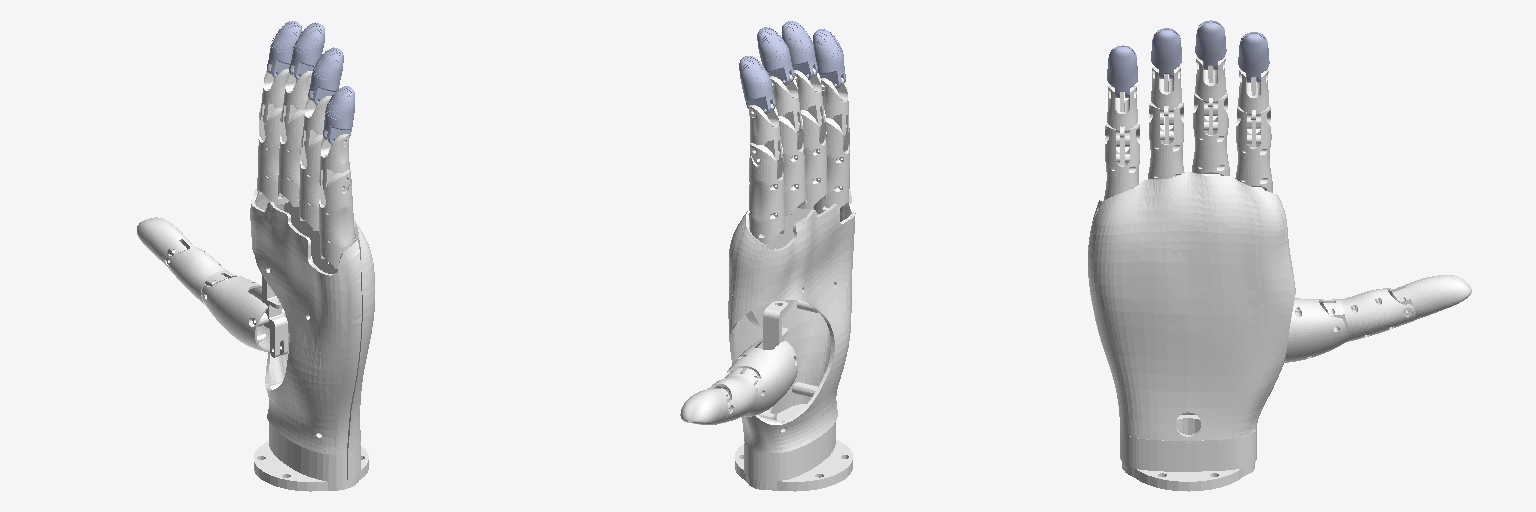
--- Facts derived from the render (not from the file) ---
Views: 3 orthographic renders of the robot side by side, from view 1: azimuth 30°, elevation 25°; view 2: azimuth 150°, elevation 25°; view 3: azimuth 270°, elevation 25°.
Model left with 25 links and 24 joints (22 revolute, 2 fixed), rooted at base_link, posed all joints at 0.
Links seen in each view (by area): view 1: palm, wrist, TH1, LF0, TH2, MF0, FF0, RF0, TH3, LF2, RF2, MF2 (+6 smaller); view 2: palm, wrist, FF0, TH1, LF0, RF0, MF0, TH2, TH3, FF2, MF2, LF2 (+6 smaller); view 3: wrist, TH2, TH1, MF0, FF0, RF0, TH3, LF0, LF2, LF1, FF2, FF1 (+4 smaller).
Boxes of the visible links, bbox=[...] form: palm: bbox=[250, 188, 361, 454]; wrist: bbox=[254, 196, 374, 491]; TH1: bbox=[201, 276, 289, 351]; LF0: bbox=[319, 169, 354, 268]; TH2: bbox=[164, 247, 236, 306]; MF0: bbox=[278, 109, 304, 206]; FF0: bbox=[257, 108, 288, 204]; RF0: bbox=[299, 134, 322, 230]; TH3: bbox=[137, 217, 193, 263]; LF2: bbox=[323, 86, 354, 144]; RF2: bbox=[308, 47, 343, 104]; MF2: bbox=[289, 22, 324, 79]; palm: bbox=[730, 189, 855, 452]; wrist: bbox=[728, 200, 852, 491]; FF0: bbox=[748, 143, 784, 243]; TH1: bbox=[723, 339, 797, 416]; LF0: bbox=[814, 118, 849, 213]; RF0: bbox=[797, 110, 827, 208]; MF0: bbox=[778, 116, 805, 215]; TH2: bbox=[708, 368, 758, 424]; TH3: bbox=[680, 388, 729, 424]; FF2: bbox=[739, 56, 775, 114]; MF2: bbox=[757, 27, 794, 85]; LF2: bbox=[813, 29, 845, 88]; wrist: bbox=[1088, 172, 1293, 491]; TH2: bbox=[1322, 288, 1415, 343]; TH1: bbox=[1284, 298, 1346, 362]; MF0: bbox=[1192, 93, 1229, 175]; FF0: bbox=[1235, 106, 1272, 192]; RF0: bbox=[1148, 103, 1184, 179]; TH3: bbox=[1392, 275, 1471, 320]; LF0: bbox=[1104, 124, 1139, 200]; LF2: bbox=[1107, 45, 1137, 97]; LF1: bbox=[1107, 86, 1137, 146]; FF2: bbox=[1238, 32, 1269, 82]; FF1: bbox=[1238, 70, 1268, 128].
Bounding box of the posed robot: 0.057 × 0.1804 × 0.2342 m (x, y, z).
18 mesh visuals loaded from 25 distinct referenced files (18 binary STL); not drawn: 7 (reference not matched to a file when rendering).

robot.urdf — left:

<!-- This URDF was automatically created by SolidWorks to URDF Exporter! Originally created by Stephen Brawner ([email redacted]) 
     Commit Version: 1.6.0-4-g7f85cfe  Build Version: 1.6.7995.38578
     For more information, please see http://wiki.ros.org/sw_urdf_exporter -->
<robot
  name="left">
  <link
    name="base_link">
    <inertial>
      <origin
        xyz="-0.000433277303987328 -3.54664423471128E-05 0.0599427668933796"
        rpy="0 0 0" />
      <mass
        value="0.841070778135659" />
      <inertia
        ixx="0.0017261110801622"
        ixy="2.52746264980217E-06"
        ixz="-3.67690303614961E-05"
        iyy="0.00170987405835604"
        iyz="1.67996364994424E-06"
        izz="0.000904023422915791" />
    </inertial>
    <visual>
      <origin
        xyz="0 0 0"
        rpy="0 0 0" />
      <geometry>
        <mesh
          filename="package://left/meshes/base_link.STL" />
      </geometry>
      <material
        name="">
        <color
          rgba="1 1 1 1" />
      </material>
    </visual>
    <collision>
      <origin
        xyz="0 0 0"
        rpy="0 0 0" />
      <geometry>
        <mesh
          filename="package://left/meshes/base_link.STL" />
      </geometry>
    </collision>
  </link>
  <link
    name="Link1">
    <inertial>
      <origin
        xyz="1.2226305431569E-08 0.0211079974844683 -0.0251854220842269"
        rpy="0 0 0" />
      <mass
        value="0.593563443690403" />
      <inertia
        ixx="0.00126614120341847"
        ixy="-1.294980943835E-08"
        ixz="-9.80120923066996E-09"
        iyy="0.00118168178300364"
        iyz="-0.00021121727444415"
        izz="0.00056135241627747" />
    </inertial>
    <visual>
      <origin
        xyz="0 0 0"
        rpy="0 0 0" />
      <geometry>
        <mesh
          filename="package://left/meshes/link1.STL" />
      </geometry>
      <material
        name="">
        <color
          rgba="1 1 1 1" />
      </material>
    </visual>
    <collision>
      <origin
        xyz="0 0 0"
        rpy="0 0 0" />
      <geometry>
        <mesh
          filename="package://left/meshes/link1.STL" />
      </geometry>
    </collision>
  </link>
  <joint
    name="joint1"
    type="revolute">
    <origin
      xyz="0 0 0.2405"
      rpy="0 0 0" />
    <parent
      link="base_link" />
    <child
      link="Link1" />
    <axis
      xyz="0 0 1" />
    <limit
      lower="-3.1"
      upper="3.1"
      effort="60"
      velocity="3.14" />
  </joint>
  <link
    name="Link2">
    <inertial>
      <origin
        xyz="0.152256463426163 4.75383656106654E-07 -0.00620260383607792"
        rpy="0 0 0" />
      <mass
        value="0.864175046869043" />
      <inertia
        ixx="0.00089150298478414"
        ixy="-2.23268489334765E-08"
        ixz="0.00156246461035015"
        iyy="0.00733754343083901"
        iyz="6.28110889329165E-09"
        izz="0.00697869103915473" />
    </inertial>
    <visual>
      <origin
        xyz="0 0 0"
        rpy="0 0 0" />
      <geometry>
        <mesh
          filename="package://left/meshes/link2.STL" />
      </geometry>
      <material
        name="">
        <color
          rgba="1 1 1 1" />
      </material>
    </visual>
    <collision>
      <origin
        xyz="0 0 0"
        rpy="0 0 0" />
      <geometry>
        <mesh
          filename="package://left/meshes/link2.STL" />
      </geometry>
    </collision>
  </link>
  <joint
    name="joint2"
    type="revolute">
    <origin
      xyz="0 0 0"
      rpy="1.5708 -1.5708 0" />
    <parent
      link="Link1" />
    <child
      link="Link2" />
    <axis
      xyz="0 0 1" />
    <limit
      lower="-2.268"
      upper="2.268"
      effort="60"
      velocity="3.14" />
  </joint>
  <link
    name="Link3">
    <inertial>
      <origin
        xyz="5.05312670989961E-06 -0.0595925663694732 0.010569069212336"
        rpy="0 0 0" />
      <mass
        value="0.289633681624654" />
      <inertia
        ixx="0.00063737100450158"
        ixy="-7.05261293649751E-08"
        ixz="-3.86643272239426E-08"
        iyy="0.00015648388095025"
        iyz="-0.00014461035994916"
        izz="0.000614178164773085" />
    </inertial>
    <visual>
      <origin
        xyz="0 0 0"
        rpy="0 0 0" />
      <geometry>
        <mesh
          filename="package://left/meshes/link3.STL" />
      </geometry>
      <material
        name="">
        <color
          rgba="1 1 1 1" />
      </material>
    </visual>
    <collision>
      <origin
        xyz="0 0 0"
        rpy="0 0 0" />
      <geometry>
        <mesh
          filename="package://left/meshes/link3.STL" />
      </geometry>
    </collision>
  </link>
  <joint
    name="joint3"
    type="revolute">
    <origin
      xyz="0.256 0 0"
      rpy="0 0 1.5708" />
    <parent
      link="Link2" />
    <child
      link="Link3" />
    <axis
      xyz="0 0 1" />
    <limit
      lower="-2.355"
      upper="2.355"
      effort="30"
      velocity="3.92" />
  </joint>
  <link
    name="Link4">
    <inertial>
      <origin
        xyz="1.15516617405898E-06 -0.0180424468598241 -0.0215394748352687"
        rpy="0 0 0" />
      <mass
        value="0.239419768320061" />
      <inertia
        ixx="0.000285938919722783"
        ixy="3.07101359163101E-09"
        ixz="-2.21994118981953E-09"
        iyy="0.000262727540304212"
        iyz="4.4236583260078E-05"
        izz="0.000119888082791859" />
    </inertial>
    <visual>
      <origin
        xyz="0 0 0"
        rpy="0 0 0" />
      <geometry>
        <mesh
          filename="package://left/meshes/link4.STL" />
      </geometry>
      <material
        name="">
        <color
          rgba="1 1 1 1" />
      </material>
    </visual>
    <collision>
      <origin
        xyz="0 0 0"
        rpy="0 0 0" />
      <geometry>
        <mesh
          filename="package://left/meshes/link4.STL" />
      </geometry>
    </collision>
  </link>
  <joint
    name="joint4"
    type="revolute">
    <origin
      xyz="0 -0.21 0"
      rpy="1.5708 0 0" />
    <parent
      link="Link3" />
    <child
      link="Link4" />
    <axis
      xyz="0 0 1" />
    <limit
      lower="-3.1"
      upper="3.1"
      effort="10"
      velocity="3.92" />
  </joint>
  <link
    name="Link5">
    <inertial>
      <origin
        xyz="3.19794786262152E-06 -0.0593808368101458 0.00736804250989326"
        rpy="0 0 0" />
      <mass
        value="0.218799761431678" />
      <inertia
        ixx="0.000350540363914072"
        ixy="-3.41781619975602E-08"
        ixz="-1.77056457224373E-08"
        iyy="0.000104927867487581"
        iyz="-7.82431228461971E-05"
        izz="0.000334482418423629" />
    </inertial>
    <visual>
      <origin
        xyz="0 0 0"
        rpy="0 0 0" />
      <geometry>
        <mesh
          filename="package://left/meshes/link5.STL" />
      </geometry>
      <material
        name="">
        <color
          rgba="1 1 1 1" />
      </material>
    </visual>
    <collision>
      <origin
        xyz="0 0 0"
        rpy="0 0 0" />
      <geometry>
        <mesh
          filename="package://left/meshes/link5.STL" />
      </geometry>
    </collision>
  </link>
  <joint
    name="joint5"
    type="revolute">
    <origin
      xyz="0 0 0"
      rpy="-1.5708 0 0" />
    <parent
      link="Link4" />
    <child
      link="Link5" />
    <axis
      xyz="0 0 1" />
    <limit
      lower="-2.233"
      upper="2.233"
      effort="10"
      velocity="3.92" />
  </joint>
  <link
    name="Link6">
    <inertial>
      <origin
        xyz="0.000714234511756999 -0.000396718732824521 -0.0126723660946126"
        rpy="0 0 0" />
      <mass
        value="0.0649018034311231" />
      <inertia
        ixx="2.02766547502765E-05"
        ixy="-1.32505200276849E-06"
        ixz="-2.5845091522508E-08"
        iyy="1.87986725225022E-05"
        iyz="3.39471452125439E-09"
        izz="3.17885459163081E-05" />
    </inertial>
    <visual>
      <origin
        xyz="0 0 0"
        rpy="0 0 0" />
      <geometry>
        <mesh
          filename="package://left/meshes/link6.STL" />
      </geometry>
      <material
        name="">
        <color
          rgba="1 1 1 1" />
      </material>
    </visual>
    <collision>
      <origin
        xyz="0 0 0"
        rpy="0 0 0" />
      <geometry>
        <mesh
          filename="package://left/meshes/link6.STL" />
      </geometry>
    </collision>
  </link>
  <joint
    name="joint6"
    type="revolute">
    <origin
      xyz="0 -0.144 0"
      rpy="1.5708 0 0" />
    <parent
      link="Link5" />
    <child
      link="Link6" />
    <axis
      xyz="0 0 1" />
    <limit
      lower="-6.28"
      upper="6.28"
      effort="10"
      velocity="3.92" />
  </joint>
  <link
    name="wrist">
    <inertial>
      <origin
        xyz="0.00054177 -0.0072101 0.058151"
        rpy="0 0 0" />
      <mass
        value="0.075667" />
      <inertia
        ixx="4.6089E-05"
        ixy="9.7391E-08"
        ixz="-1.1131E-06"
        iyy="7.4176E-05"
        iyz="-2.1837E-07"
        izz="3.6714E-05" />
    </inertial>
    <visual>
      <origin
        xyz="0 0 0"
        rpy="0 0 0" />
      <geometry>
        <mesh
          filename="package://left/meshes/wrist.STL" />
      </geometry>
      <material
        name="">
        <color
          rgba="1 1 1 1" />
      </material>
    </visual>
    <collision>
      <origin
        xyz="0 0 0"
        rpy="0 0 0" />
      <geometry>
        <mesh
          filename="package://left/meshes/wrist.STL" />
      </geometry>
    </collision>
  </link>
    <joint
    name="wrist_joint"
    type="fixed">
    <origin
      xyz="0 0 0"
      rpy="0 0 -1.57" />
    <parent
      link="Link6" />
    <child
      link="wrist" />
    <axis
      xyz="0 0 0" />
  </joint>
 <link
    name="palm">
    <inertial>
      <origin
        xyz="-0.011999 -0.0025212 0.0019088"
        rpy="0 0 0" />
      <mass
        value="0.015236" />
      <inertia
        ixx="1.9418E-05"
        ixy="2.1162E-07"
        ixz="-3.4723E-06"
        iyy="2.9086E-05"
        iyz="2.7325E-07"
        izz="1.0332E-05" />
    </inertial>
    <visual>
      <origin
        xyz="0 0 0"
        rpy="0 0 0" />
      <geometry>
        <mesh
          filename="package://left/meshes/palm.STL" />
      </geometry>
      <material
        name="">
        <color
          rgba="1 1 1 1" />
      </material>
    </visual>
    <collision>
      <origin
        xyz="0 0 0"
        rpy="0 0 0" />
      <geometry>
        <mesh
          filename="package://left/meshes/palm.STL" />
      </geometry>
    </collision>
  </link>
  <joint
    name="palm"
    type="fixed">
    <origin
      xyz="0.006962 0.012987 0.083048"
      rpy="0 0 0" />
    <parent
      link="wrist" />
    <child
      link="palm" />
    <axis
      xyz="0 0 0" />
  </joint>
  <link
    name="FF0">
    <inertial>
      <origin
        xyz="0.00024926 -0.0018876 0.022916"
        rpy="0 0 0" />
      <mass
        value="0.0037851" />
      <inertia
        ixx="7.8607E-07"
        ixy="1.4474E-12"
        ixz="-1.3021E-09"
        iyy="8.3097E-07"
        iyz="6.2582E-09"
        izz="1.7887E-07" />
    </inertial>
    <visual>
      <origin
        xyz="0 0 0"
        rpy="0 0 0" />
      <geometry>
        <mesh
          filename="package://left/meshes/FF0.STL" />
      </geometry>
      <material
        name="">
        <color
          rgba="1 1 1 1" />
      </material>
    </visual>
    <collision>
      <origin
        xyz="0 0 0"
        rpy="0 0 0" />
      <geometry>
        <mesh
          filename="package://left/meshes/FF0.STL" />
      </geometry>
    </collision>
  </link>
  <joint
    name="FFJ0"
    type="revolute">
    <origin
      xyz="0.02349 -0.0082497 0.055921"
      rpy="0 0 0" />
    <parent
      link="palm" />
    <child
      link="FF0" />
    <axis
      xyz="-1 0 0" />
    <limit
      lower="0"
      upper="1.39"
      effort="0"
      velocity="0" />
  </joint>
  <link
    name="FF1">
    <inertial>
      <origin
        xyz="-6.287E-06 0.00050674 0.012301"
        rpy="0 0 0" />
      <mass
        value="0.0022151" />
      <inertia
        ixx="1.3295E-07"
        ixy="-3.0132E-11"
        ixz="5.3747E-11"
        iyy="1.3584E-07"
        iyz="1.3597E-08"
        izz="5.7448E-08" />
    </inertial>
    <visual>
      <origin
        xyz="0 0 0"
        rpy="0 0 0" />
      <geometry>
        <mesh
          filename="package://left/meshes/FF1.STL" />
      </geometry>
      <material
        name="">
        <color
          rgba="1 1 1 1" />
      </material>
    </visual>
    <collision>
      <origin
        xyz="0 0 0"
        rpy="0 0 0" />
      <geometry>
        <mesh
          filename="package://left/meshes/FF1.STL" />
      </geometry>
    </collision>
  </link>
  <joint
    name="FFJ1"
    type="revolute">
    <origin
      xyz="0.0003 -0.0032121 0.03859"
      rpy="0 0 0" />
    <parent
      link="FF0" />
    <child
      link="FF1" />
    <axis
      xyz="-1 0 0" />
    <limit
      lower="-0.07"
      upper="1.5708"
      effort="0"
      velocity="0" />
  </joint>
  <link
    name="FF2">
    <inertial>
      <origin
        xyz="1.9861E-06 -0.0013961 0.012606"
        rpy="0 0 0" />
      <mass
        value="0.0029562" />
      <inertia
        ixx="1.1129E-07"
        ixy="-3.7432E-11"
        ixz="2.6151E-11"
        iyy="8.599E-08"
        iyz="3.5007E-08"
        izz="6.009E-08" />
    </inertial>
    <visual>
      <origin
        xyz="0 0 0"
        rpy="0 0 0" />
      <geometry>
        <mesh
          filename="package://left/meshes/FF2.STL" />
      </geometry>
      <material
        name="">
        <color
          rgba="0.79216 0.81961 0.93333 1" />
      </material>
    </visual>
    <collision>
      <origin
        xyz="0 0 0"
        rpy="0 0 0" />
      <geometry>
        <mesh
          filename="package://left/meshes/FF2.STL" />
      </geometry>
    </collision>
  </link>
  <joint
    name="FFJ2"
    type="revolute">
    <origin
      xyz="0 -0.0033672 0.024281"
      rpy="0 0 0" />
    <parent
      link="FF1" />
    <child
      link="FF2" />
    <axis
      xyz="-1 0 0" />
    <limit
      lower="-0.07"
      upper="1.127"
      effort="0"
      velocity="0" />
  </joint>
  <link
    name="MF0">
    <inertial>
      <origin
        xyz="0.00024034 -0.0021897 0.022893"
        rpy="0 0 0" />
      <mass
        value="0.0037851" />
      <inertia
        ixx="7.8607E-07"
        ixy="1.8837E-11"
        ixz="-1.3023E-09"
        iyy="8.3073E-07"
        iyz="1.5091E-08"
        izz="1.7911E-07" />
    </inertial>
    <visual>
      <origin
        xyz="0 0 0"
        rpy="0 0 0" />
      <geometry>
        <mesh
          filename="package://left/meshes/MF0.STL" />
      </geometry>
      <material
        name="">
        <color
          rgba="1 1 1 1" />
      </material>
    </visual>
    <collision>
      <origin
        xyz="0 0 0"
        rpy="0 0 0" />
      <geometry>
        <mesh
          filename="package://left/meshes/MF0.STL" />
      </geometry>
    </collision>
  </link>
  <joint
    name="MFJ0"
    type="revolute">
    <origin
      xyz="0.0033546 -0.0082497 0.06289"
      rpy="0 0 0" />
    <parent
      link="palm" />
    <child
      link="MF0" />
    <axis
      xyz="-1 0 0" />
    <limit
      lower="0"
      upper="1.39"
      effort="0"
      velocity="0" />
  </joint>
  <link
    name="MF1">
    <inertial>
      <origin
        xyz="-6.2871E-06 0.00023456 0.012311"
        rpy="0 0 0" />
      <mass
        value="0.0022151" />
      <inertia
        ixx="1.3295E-07"
        ixy="-3.1313E-11"
        ixz="5.3068E-11"
        iyy="1.352E-07"
        iyz="1.5333E-08"
        izz="5.8085E-08" />
    </inertial>
    <visual>
      <origin
        xyz="0 0 0"
        rpy="0 0 0" />
      <geometry>
        <mesh
          filename="package://left/meshes/MF1.STL" />
      </geometry>
      <material
        name="">
        <color
          rgba="1 1 1 1" />
      </material>
    </visual>
    <collision>
      <origin
        xyz="0 0 0"
        rpy="0 0 0" />
      <geometry>
        <mesh
          filename="package://left/meshes/MF1.STL" />
      </geometry>
    </collision>
  </link>
  <joint
    name="MFJ1"
    type="revolute">
    <origin
      xyz="0.0003 -0.0037267 0.038543"
      rpy="0 0 0" />
    <parent
      link="MF0" />
    <child
      link="MF1" />
    <axis
      xyz="-1 0 0" />
    <limit
      lower="-0.07"
      upper="1.5708"
      effort="0"
      velocity="0" />
  </joint>
  <link
    name="MF2">
    <inertial>
      <origin
        xyz="1.9738E-06 -0.0017379 0.012564"
        rpy="0 0 0" />
      <mass
        value="0.0029562" />
      <inertia
        ixx="1.1129E-07"
        ixy="-3.7917E-11"
        ixz="2.5148E-11"
        iyy="8.4072E-08"
        iyz="3.5659E-08"
        izz="6.201E-08" />
    </inertial>
    <visual>
      <origin
        xyz="0 0 0"
        rpy="0 0 0" />
      <geometry>
        <mesh
          filename="package://left/meshes/MF2.STL" />
      </geometry>
      <material
        name="">
        <color
          rgba="0.79216 0.81961 0.93333 1" />
      </material>
    </visual>
    <collision>
      <origin
        xyz="0 0 0"
        rpy="0 0 0" />
      <geometry>
        <mesh
          filename="package://left/meshes/MF2.STL" />
      </geometry>
    </collision>
  </link>
  <joint
    name="MFJ2"
    type="revolute">
    <origin
      xyz="0 -0.0039045 0.0242"
      rpy="0 0 0" />
    <parent
      link="MF1" />
    <child
      link="MF2" />
    <axis
      xyz="-1 0 0" />
    <limit
      lower="-0.07"
      upper="1.127"
      effort="0"
      velocity="0" />
  </joint>
  <link
    name="RF0">
    <inertial>
      <origin
        xyz="-0.00010074 -0.0018919 0.022916"
        rpy="0 0 0" />
      <mass
        value="0.0037851" />
      <inertia
        ixx="7.8607E-07"
        ixy="1.6916E-12"
        ixz="-1.3021E-09"
        iyy="8.3097E-07"
        iyz="6.3822E-09"
        izz="1.7887E-07" />
    </inertial>
    <visual>
      <origin
        xyz="0 0 0"
        rpy="0 0 0" />
      <geometry>
        <mesh
          filename="package://left/meshes/RF0.STL" />
      </geometry>
      <material
        name="">
        <color
          rgba="1 1 1 1" />
      </material>
    </visual>
    <collision>
      <origin
        xyz="0 0 0"
        rpy="0 0 0" />
      <geometry>
        <mesh
          filename="package://left/meshes/RF0.STL" />
      </geometry>
    </collision>
  </link>
  <joint
    name="RFJ0"
    type="revolute">
    <origin
      xyz="-0.017053 -0.0082497 0.057909"
      rpy="0 0 0" />
    <parent
      link="palm" />
    <child
      link="RF0" />
    <axis
      xyz="-1 0 0" />
    <limit
      lower="0"
      upper="1.39"
      effort="0"
      velocity="0" />
  </joint>
  <link
    name="RF1">
    <inertial>
      <origin
        xyz="-6.287E-06 0.0005029 0.012302"
        rpy="0 0 0" />
      <mass
        value="0.0022151" />
      <inertia
        ixx="1.3295E-07"
        ixy="-3.0148E-11"
        ixz="5.3737E-11"
        iyy="1.3583E-07"
        iyz="1.3622E-08"
        izz="5.7457E-08" />
    </inertial>
    <visual>
      <origin
        xyz="0 0 0"
        rpy="0 0 0" />
      <geometry>
        <mesh
          filename="package://left/meshes/RF1.STL" />
      </geometry>
      <material
        name="">
        <color
          rgba="1 1 1 1" />
      </material>
    </visual>
    <collision>
      <origin
        xyz="0 0 0"
        rpy="0 0 0" />
      <geometry>
        <mesh
          filename="package://left/meshes/RF1.STL" />
      </geometry>
    </collision>
  </link>
  <joint
    name="RFJ1"
    type="revolute">
    <origin
      xyz="-5E-05 -0.0032194 0.038589"
      rpy="0 0 0" />
    <parent
      link="RF0" />
    <child
      link="RF1" />
    <axis
      xyz="-1 0 0" />
    <limit
      lower="-0.07"
      upper="1.5708"
      effort="0"
      velocity="0" />
  </joint>
  <link
    name="RF2">
    <inertial>
      <origin
        xyz="1.9838E-06 -0.001401 0.012606"
        rpy="0 0 0" />
      <mass
        value="0.0029562" />
      <inertia
        ixx="1.1129E-07"
        ixy="-3.7387E-11"
        ixz="2.613E-11"
        iyy="8.5964E-08"
        iyz="3.5017E-08"
        izz="6.0117E-08" />
    </inertial>
    <visual>
      <origin
        xyz="0 0 0"
        rpy="0 0 0" />
      <geometry>
        <mesh
          filename="package://left/meshes/RF2.STL" />
      </geometry>
      <material
        name="">
        <color
          rgba="0.79216 0.81961 0.93333 1" />
      </material>
    </visual>
    <collision>
      <origin
        xyz="0 0 0"
        rpy="0 0 0" />
      <geometry>
        <mesh
          filename="package://left/meshes/RF2.STL" />
      </geometry>
    </collision>
  </link>
  <joint
    name="RFJ2"
    type="revolute">
    <origin
      xyz="0 -0.0033748 0.02428"
      rpy="0 0 0" />
    <parent
      link="RF1" />
    <child
      link="RF2" />
    <axis
      xyz="-1 0 0" />
    <limit
      lower="-0.07"
      upper="1.127"
      effort="0"
      velocity="0" />
  </joint>
  <link
    name="LF0">
    <inertial>
      <origin
        xyz="-9.6987E-06 -0.00091388 0.022964"
        rpy="0 0 0" />
      <mass
        value="0.0037851" />
      <inertia
        ixx="7.8607E-07"
        ixy="-5.4444E-11"
        ixz="-1.3001E-09"
        iyy="8.3012E-07"
        iyz="-2.2147E-08"
        izz="1.7972E-07" />
    </inertial>
    <visual>
      <origin
        xyz="0 0 0"
        rpy="0 0 0" />
      <geometry>
        <mesh
          filename="package://left/meshes/LF0.STL" />
      </geometry>
      <material
        name="">
        <color
          rgba="1 1 1 1" />
      </material>
    </visual>
    <collision>
      <origin
        xyz="0 0 0"
        rpy="0 0 0" />
      <geometry>
        <mesh
          filename="package://left/meshes/LF0.STL" />
      </geometry>
    </collision>
  </link>
  <joint
    name="LFJ0"
    type="revolute">
    <origin
      xyz="-0.037785 -0.0082497 0.045842"
      rpy="0 0 0" />
    <parent
      link="palm" />
    <child
      link="LF0" />
    <axis
      xyz="-1 0 0" />
    <limit
      lower="0"
      upper="1.39"
      effort="0"
      velocity="0" />
  </joint>
  <link
    name="LF1">
    <inertial>
      <origin
        xyz="-6.2874E-06 0.0013967 0.012229"
        rpy="0 0 0" />
      <mass
        value="0.0022151" />
      <inertia
        ixx="1.3295E-07"
        ixy="-2.6108E-11"
        ixz="5.5801E-11"
        iyy="1.3738E-07"
        iyz="7.736E-09"
        izz="5.5913E-08" />
    </inertial>
    <visual>
      <origin
        xyz="0 0 0"
        rpy="0 0 0" />
      <geometry>
        <mesh
          filename="package://left/meshes/LF1.STL" />
      </geometry>
      <material
        name="">
        <color
          rgba="1 1 1 1" />
      </material>
    </visual>
    <collision>
      <origin
        xyz="0 0 0"
        rpy="0 0 0" />
      <geometry>
        <mesh
          filename="package://left/meshes/LF1.STL" />
      </geometry>
    </collision>
  </link>
  <joint
    name="LFJ1"
    type="revolute">
    <origin
      xyz="5E-05 -0.0015525 0.038692"
      rpy="0 0 0" />
    <parent
      link="LF0" />
    <child
      link="LF1" />
    <axis
      xyz="-1 0 0" />
    <limit
      lower="-0.07"
      upper="1.5708"
      effort="0"
      velocity="0" />
  </joint>
  <link
    name="LF2">
    <inertial>
      <origin
        xyz="1.9978E-06 -0.00025841 0.012681"
        rpy="0 0 0" />
      <mass
        value="0.0029562" />
      <inertia
        ixx="1.1129E-07"
        ixy="-3.5759E-11"
        ixz="2.9358E-11"
        iyy="9.2043E-08"
        iyz="3.2125E-08"
        izz="5.4037E-08" />
    </inertial>
    <visual>
      <origin
        xyz="0 0 0"
        rpy="0 0 0" />
      <geometry>
        <mesh
          filename="package://left/meshes/LF2.STL" />
      </geometry>
      <material
        name="">
        <color
          rgba="0.79216 0.81961 0.93333 1" />
      </material>
    </visual>
    <collision>
      <origin
        xyz="0 0 0"
        rpy="0 0 0" />
      <geometry>
        <mesh
          filename="package://left/meshes/LF2.STL" />
      </geometry>
    </collision>
  </link>
  <joint
    name="LFJ2"
    type="revolute">
    <origin
      xyz="0 -0.0015947 0.024461"
      rpy="0 0 0" />
    <parent
      link="LF1" />
    <child
      link="LF2" />
    <axis
      xyz="-1 0 0" />
    <limit
      lower="-0.07"
      upper="1.127"
      effort="0"
      velocity="0" />
  </joint>
  <link
    name="TH0">
    <inertial>
      <origin
        xyz="0.0047151 -4.0431E-06 -0.011967"
        rpy="0 0 0" />
      <mass
        value="0.0019231" />
      <inertia
        ixx="2.543E-07"
        ixy="-2.8886E-11"
        ixz="-3.0777E-08"
        iyy="2.6734E-07"
        iyz="-1.5616E-10"
        izz="3.4295E-08" />
    </inertial>
    <visual>
      <origin
        xyz="0 0 0"
        rpy="0 0 0" />
      <geometry>
        <mesh
          filename="package://left/meshes/TH0.STL" />
      </geometry>
      <material
        name="">
        <color
          rgba="1 1 1 1" />
      </material>
    </visual>
    <collision>
      <origin
        xyz="0 0 0"
        rpy="0 0 0" />
      <geometry>
        <mesh
          filename="package://left/meshes/TH0.STL" />
      </geometry>
    </collision>
  </link>
  <joint
    name="THJ0"
    type="revolute">
    <origin
      xyz="0.015255 -0.0083497 0.0052814"
      rpy="0 0 0.13014" />
    <parent
      link="palm" />
    <child
      link="TH0" />
    <axis
      xyz="0 0 1" />
    <limit
      lower="0"
      upper="2.2"
      effort="0"
      velocity="0" />
  </joint>
  <link
    name="TH1">
    <inertial>
      <origin
        xyz="0.020295 6.5827E-05 -0.0050984"
        rpy="0 0 0" />
      <mass
        value="0.004331" />
      <inertia
        ixx="6.3283E-07"
        ixy="5.2241E-11"
        ixz="2.4785E-08"
        iyy="1.1458E-06"
        iyz="-5.0957E-10"
        izz="1.1187E-06" />
    </inertial>
    <visual>
      <origin
        xyz="0 0 0"
        rpy="0 0 0" />
      <geometry>
        <mesh
          filename="package://left/meshes/TH1.STL" />
      </geometry>
      <material
        name="">
        <color
          rgba="1 1 1 1" />
      </material>
    </visual>
    <collision>
      <origin
        xyz="0 0 0"
        rpy="0 0 0" />
      <geometry>
        <mesh
          filename="package://left/meshes/TH1.STL" />
      </geometry>
    </collision>
  </link>
  <joint
    name="THJ1"
    type="revolute">
    <origin
      xyz="0.0075 0 -0.01705"
      rpy="0 0 0" />
    <parent
      link="TH0" />
    <child
      link="TH1" />
    <axis
      xyz="0 -1 0" />
    <limit
      lower="0"
      upper="0.7"
      effort="0"
      velocity="0" />
  </joint>
  <link
    name="TH2">
    <inertial>
      <origin
        xyz="0.015015 5.0093E-05 0.0018698"
        rpy="0 0 0" />
      <mass
        value="0.0028123" />
      <inertia
        ixx="1.9654E-07"
        ixy="-6.9384E-11"
        ixz="-5.5937E-09"
        iyy="3.9957E-07"
        iyz="-4.5381E-10"
        izz="3.9444E-07" />
    </inertial>
    <visual>
      <origin
        xyz="0 0 0"
        rpy="0 0 0" />
      <geometry>
        <mesh
          filename="package://left/meshes/TH2.STL" />
      </geometry>
      <material
        name="">
        <color
          rgba="1 1 1 1" />
      </material>
    </visual>
    <collision>
      <origin
        xyz="0 0 0"
        rpy="0 0 0" />
      <geometry>
        <mesh
          filename="package://left/meshes/TH2.STL" />
      </geometry>
    </collision>
  </link>
  <joint
    name="THJ2"
    type="revolute">
    <origin
      xyz="0.038855 5E-05 -0.00060069"
      rpy="0 0 0" />
    <parent
      link="TH1" />
    <child
      link="TH2" />
    <axis
      xyz="0 -1 0" />
    <limit
      lower="0"
      upper="0.928"
      effort="0"
      velocity="0" />
  </joint>
  <link
    name="TH3">
    <inertial>
      <origin
        xyz="0.013224 -2.6308E-06 0.0044986"
        rpy="0 0 0" />
      <mass
        value="0.0056262" />
      <inertia
        ixx="1.9696E-07"
        ixy="-2.5262E-10"
        ixz="-5.4894E-08"
        iyy="4.4741E-07"
        iyz="1.1714E-11"
        izz="4.4322E-07" />
    </inertial>
    <visual>
      <origin
        xyz="0 0 0"
        rpy="0 0 0" />
      <geometry>
        <mesh
          filename="package://left/meshes/TH3.STL" />
      </geometry>
      <material
        name="">
        <color
          rgba="1 1 1 1" />
      </material>
    </visual>
    <collision>
      <origin
        xyz="0 0 0"
        rpy="0 0 0" />
      <geometry>
        <mesh
          filename="package://left/meshes/TH3.STL" />
      </geometry>
    </collision>
  </link>
  <joint
    name="THJ3"
    type="revolute">
    <origin
      xyz="0.03403 -5E-05 0.0055613"
      rpy="0 0 0" />
    <parent
      link="TH2" />
    <child
      link="TH3" />
    <axis
      xyz="0 -1 0" />
    <limit
      lower="0"
      upper="1.136"
      effort="0"
      velocity="0" />
  </joint>
</robot>
